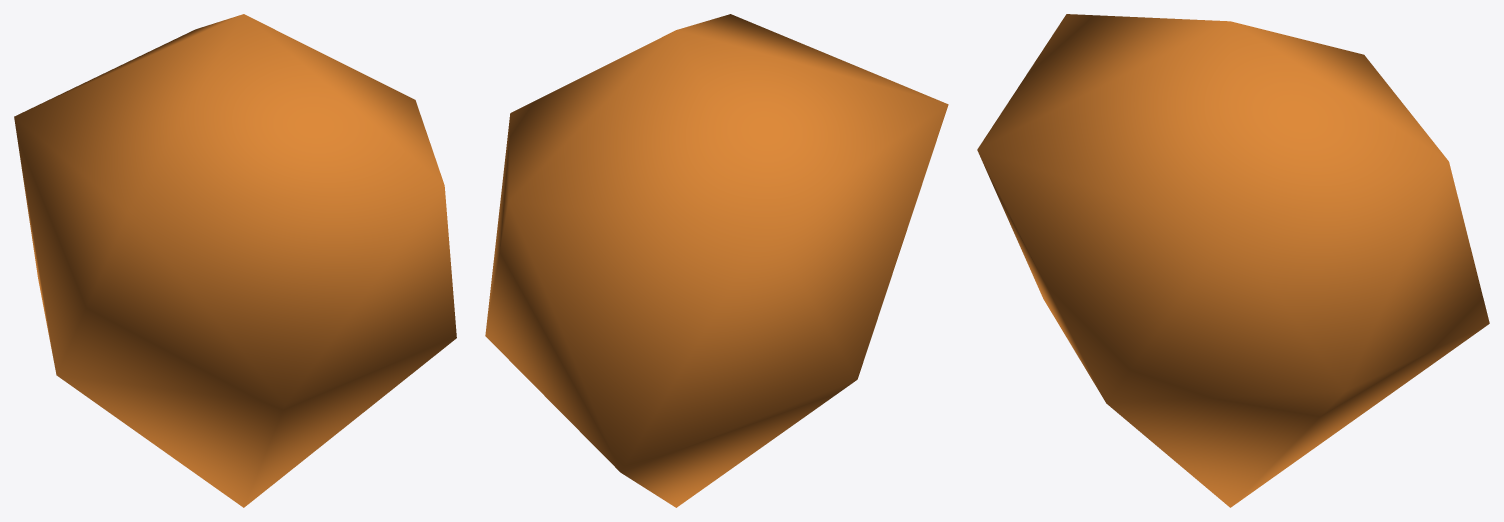
The model's file is solar_fragment.glb.
The picture shows the model from 3 angles, left to right: view 1: azimuth 30°, elevation 25°; view 2: azimuth 150°, elevation 25°; view 3: azimuth 270°, elevation 25°; orthographic projection. The views are drawn at different scales.
Visible parts, largest first — view 1: solar_fragment_v0; view 2: solar_fragment_v0; view 3: solar_fragment_v0.
Boxes of the visible parts, bbox=[...] form: solar_fragment_v0: bbox=[14, 14, 456, 507]; solar_fragment_v0: bbox=[485, 14, 948, 507]; solar_fragment_v0: bbox=[977, 14, 1489, 507].
Size of the model in its own units: 0.1673 by 0.2135 by 0.2038.
